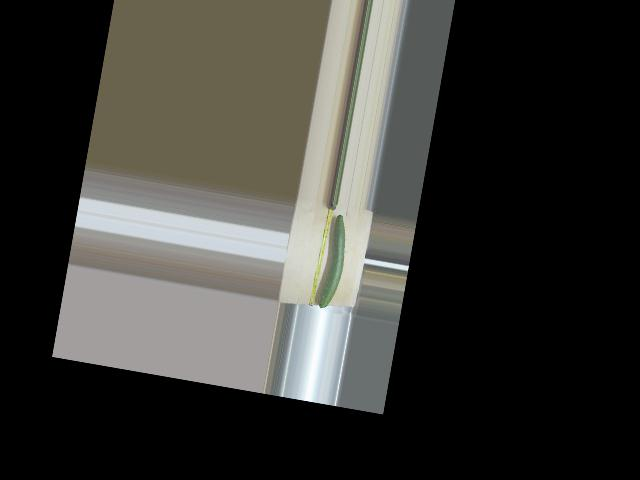cucumber: (316, 213, 351, 310)
